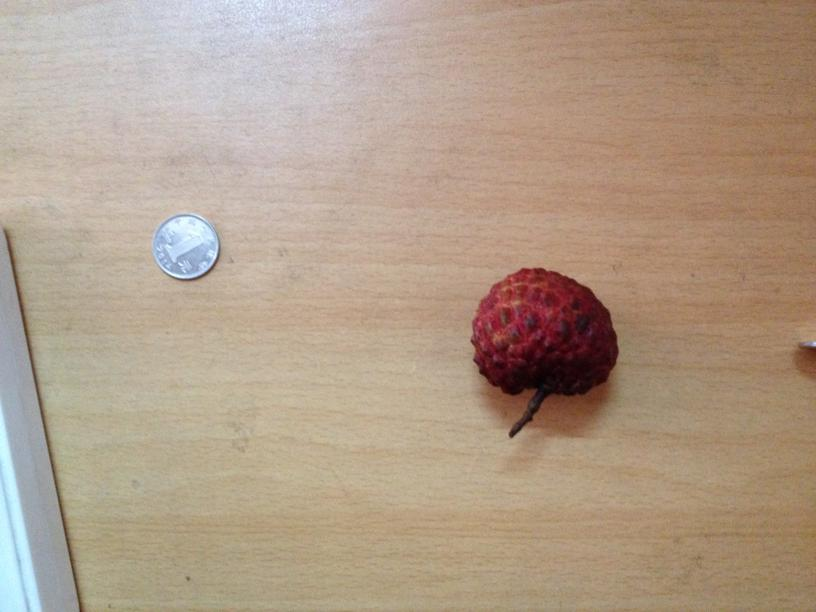coin: (154, 213, 219, 278)
litchi: (469, 270, 619, 393)
